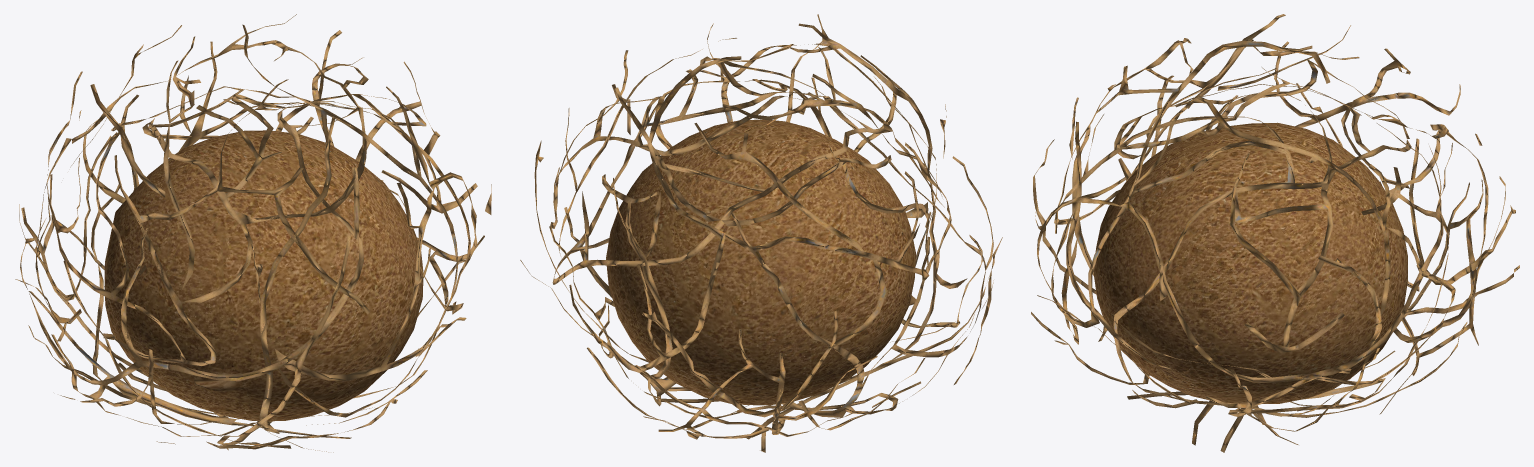
File: Tumbleweed2.glb
3 views of the same model, side by side, from view 1: azimuth 30°, elevation 25°; view 2: azimuth 150°, elevation 25°; view 3: azimuth 270°, elevation 25° (orthographic). The views are drawn at different scales.
Parts seen in each view (by area): view 1: tripo_node_0b2a4172-7e7c-48dc-ba2a-f9bdb1fb4d12; view 2: tripo_node_0b2a4172-7e7c-48dc-ba2a-f9bdb1fb4d12; view 3: tripo_node_0b2a4172-7e7c-48dc-ba2a-f9bdb1fb4d12.
Part boxes in pixels (x1,y1,x2,y2): tripo_node_0b2a4172-7e7c-48dc-ba2a-f9bdb1fb4d12: [15, 14, 491, 452]; tripo_node_0b2a4172-7e7c-48dc-ba2a-f9bdb1fb4d12: [520, 14, 1002, 452]; tripo_node_0b2a4172-7e7c-48dc-ba2a-f9bdb1fb4d12: [1031, 14, 1519, 452].
Bounding box in the file's own units: 0.2349 × 0.2 × 0.2349.
Materials: 1 (1 with a texture image).
